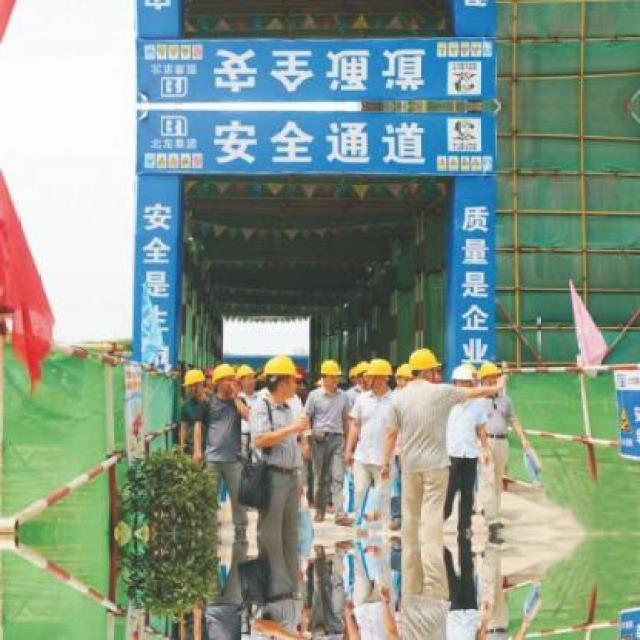helmet: (263, 352, 300, 399), (404, 346, 439, 383), (472, 356, 503, 396), (446, 360, 474, 397), (362, 356, 392, 390), (209, 360, 234, 397), (317, 354, 341, 391), (181, 366, 207, 400), (392, 359, 414, 395), (237, 361, 255, 393), (354, 358, 372, 387)
